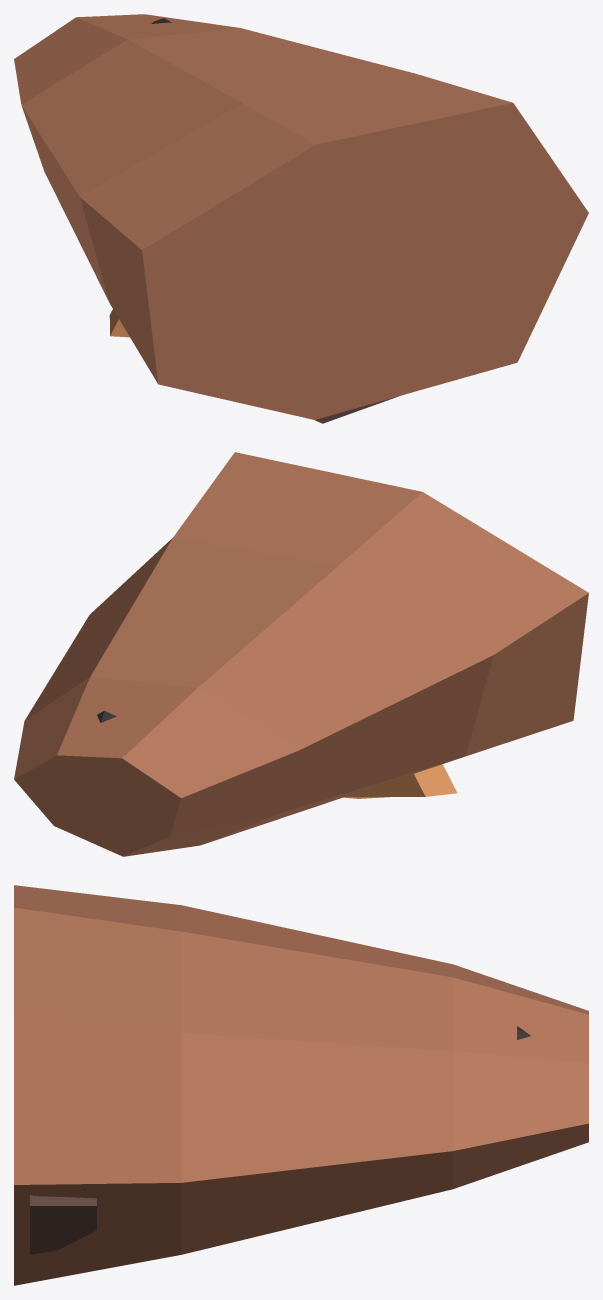
Rendered from CrashBasinCliffA.fbx.
The picture shows the model from 3 angles, top to bottom: view 1: azimuth 30°, elevation 25°; view 2: azimuth 150°, elevation 25°; view 3: azimuth 270°, elevation 25°; orthographic projection. The views are drawn at different scales.
Visible parts, largest first — view 1: CliffMass; view 2: CliffMass, CliffStrata; view 3: CliffMass, CliffShadowLedge.
Part boxes in pixels (bbox=[...]): CliffMass: bbox=[14, 14, 588, 419]; CliffMass: bbox=[14, 452, 588, 856]; CliffStrata: bbox=[343, 764, 457, 798]; CliffMass: bbox=[14, 885, 588, 1285]; CliffShadowLedge: bbox=[30, 1195, 96, 1254].
Bounding box in the file's own units: 335 × 206 × 360.
